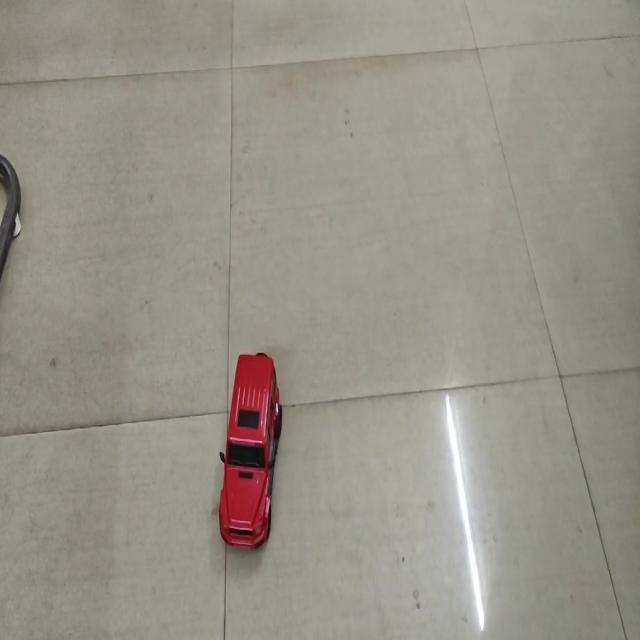light_vehicle: (218, 347, 281, 551)
